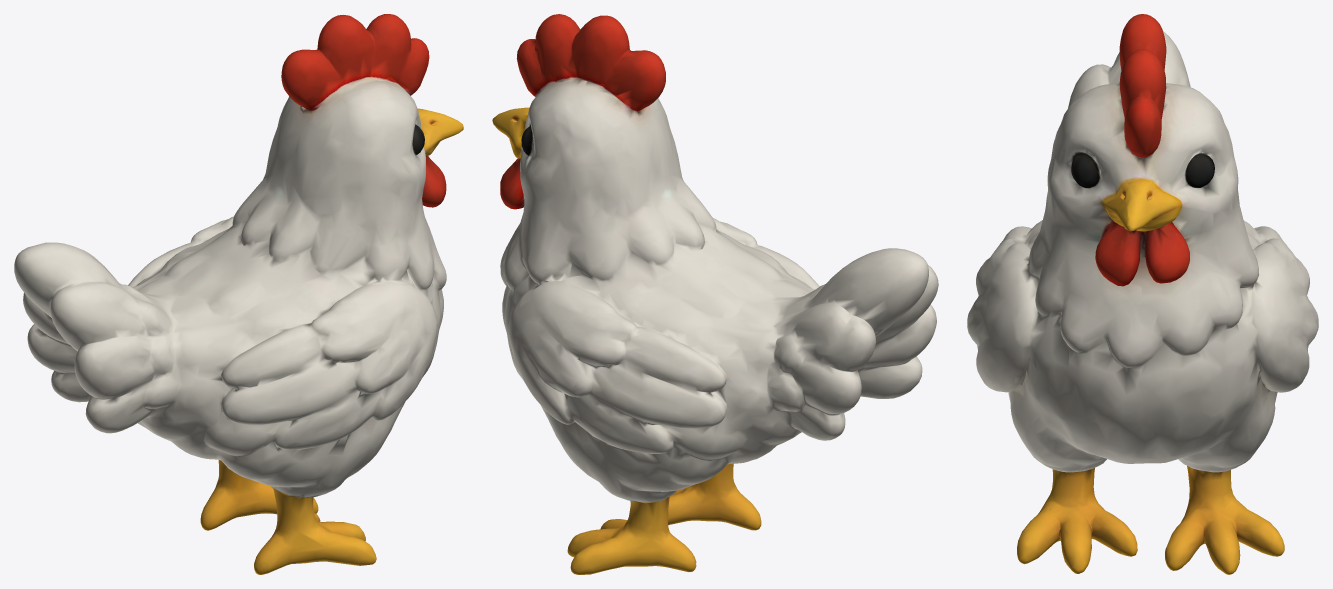
Rendered from hen.glb.
The picture shows the model from 3 angles, left to right: view 1: azimuth 30°, elevation 25°; view 2: azimuth 150°, elevation 25°; view 3: azimuth 270°, elevation 25°; orthographic projection. The views are drawn at different scales.
Parts seen in each view (by area): view 1: tripo_node_41d70268-d3b8-43ba-aa18-c6432c3d0bff; view 2: tripo_node_41d70268-d3b8-43ba-aa18-c6432c3d0bff; view 3: tripo_node_41d70268-d3b8-43ba-aa18-c6432c3d0bff.
Part boxes in pixels (x1,y1,x2,y2): tripo_node_41d70268-d3b8-43ba-aa18-c6432c3d0bff: [14, 14, 463, 574]; tripo_node_41d70268-d3b8-43ba-aa18-c6432c3d0bff: [492, 14, 938, 574]; tripo_node_41d70268-d3b8-43ba-aa18-c6432c3d0bff: [967, 14, 1318, 574].
Bounding box in the file's own units: 0.9065 × 0.9994 × 0.5656.
Materials: 1 (1 with a texture image).
